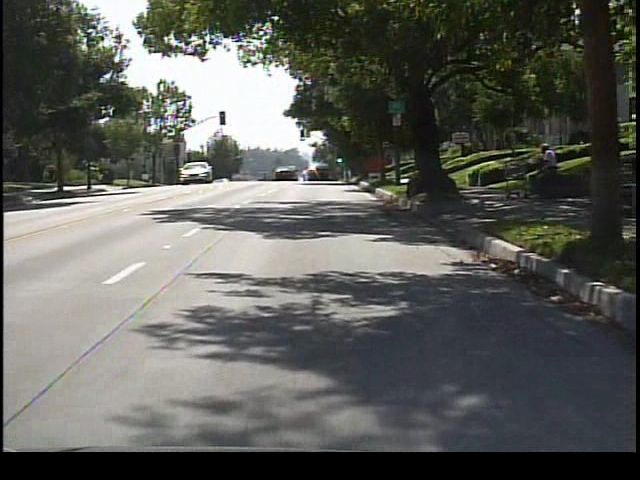person: (531, 140, 562, 205)
